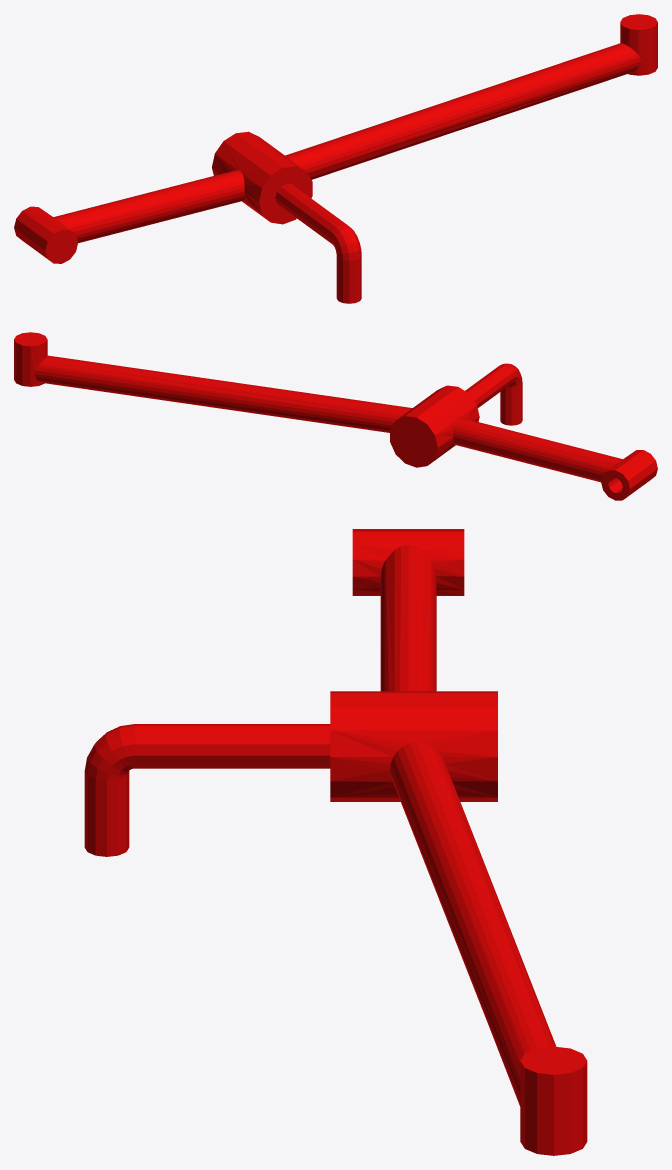
Rendered from LeftMainRocket.dae.
3 renders of one model, top to bottom at view 1: azimuth 30°, elevation 25°; view 2: azimuth 150°, elevation 25°; view 3: azimuth 270°, elevation 25°, orthographic. The views are drawn at different scales.
Parts seen in each view (by area): view 1: LeftMainRocket; view 2: LeftMainRocket; view 3: LeftMainRocket.
Part boxes in pixels (x1=…): LeftMainRocket: x1=14, y1=14, x2=657, y2=303; LeftMainRocket: x1=14, y1=332, x2=657, y2=500; LeftMainRocket: x1=84, y1=529, x2=587, y2=1155.
Bounding box in the file's own units: 1.22 × 0.45 × 0.1496.
